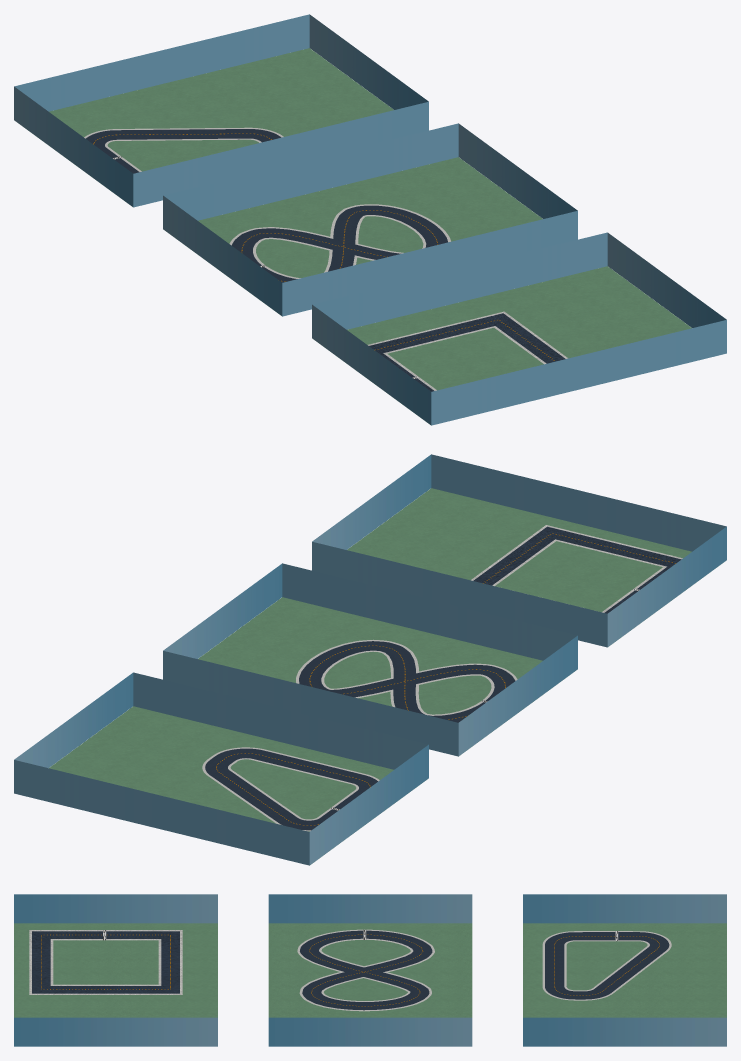
Rendered from od_patryka2.dae.
The picture shows the model from 3 angles, top to bottom: view 1: azimuth 30°, elevation 25°; view 2: azimuth 150°, elevation 25°; view 3: azimuth 270°, elevation 25°; orthographic projection. The views are drawn at different scales.
Parts seen in each view (by area): view 1: wall 3, wall, wall 2, field, field 3, field 2, road 2, road 3, road, il_ol 2, il_ol 3; view 2: wall, wall 3, wall 2, field 3, field, field 2, road 2, road, road 3, il_ol 2, il_ol 3; view 3: field, field 3, field 2, wall 2, wall, wall 3, road 2, road 3, road, il_ol 3, il_ol 2, ol (+2 smaller).
Boxes of the visible parts, x1=… form: wall 3: x1=312, y1=232, x2=726, y2=425; wall: x1=14, y1=14, x2=428, y2=207; wall 2: x1=163, y1=123, x2=577, y2=316; field: x1=18, y1=48, x2=393, y2=201; field 3: x1=319, y1=266, x2=691, y2=423; field 2: x1=166, y1=157, x2=542, y2=315; road 2: x1=231, y1=205, x2=447, y2=282; road 3: x1=369, y1=313, x2=565, y2=391; road: x1=86, y1=129, x2=281, y2=173; il_ol 2: x1=229, y1=204, x2=450, y2=278; il_ol 3: x1=368, y1=311, x2=567, y2=390; wall: x1=14, y1=672, x2=428, y2=865; wall 3: x1=312, y1=454, x2=726, y2=647; wall 2: x1=163, y1=563, x2=577, y2=756; field 3: x1=347, y1=488, x2=722, y2=643; field: x1=49, y1=706, x2=421, y2=863; field 2: x1=198, y1=597, x2=574, y2=755; road 2: x1=299, y1=641, x2=515, y2=722; road: x1=205, y1=748, x2=377, y2=830; road 3: x1=473, y1=526, x2=681, y2=613; il_ol 2: x1=296, y1=639, x2=517, y2=715; il_ol 3: x1=471, y1=525, x2=682, y2=612; field: x1=523, y1=923, x2=726, y2=1017; field 3: x1=14, y1=923, x2=217, y2=1017; field 2: x1=268, y1=923, x2=472, y2=1017; wall 2: x1=268, y1=894, x2=472, y2=1046; wall: x1=523, y1=894, x2=726, y2=1046; wall 3: x1=14, y1=894, x2=217, y2=1046; road 2: x1=300, y1=930, x2=432, y2=1010; road 3: x1=32, y1=931, x2=179, y2=993; road: x1=545, y1=932, x2=669, y2=999; il_ol 3: x1=29, y1=930, x2=182, y2=994; il_ol 2: x1=297, y1=929, x2=434, y2=1011; ol: x1=542, y1=931, x2=671, y2=1000.
Size of the model in its own units: 73.34 by 179 by 8.
14 materials, 14 textured.
